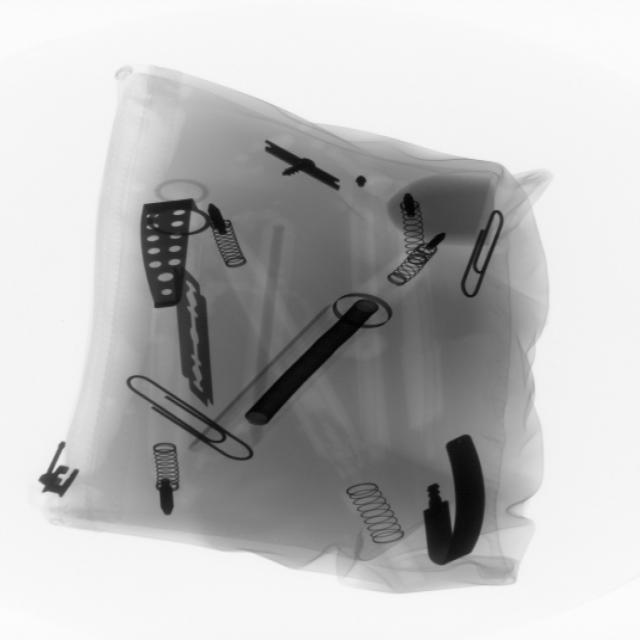BLADE: (167, 263, 222, 415)
